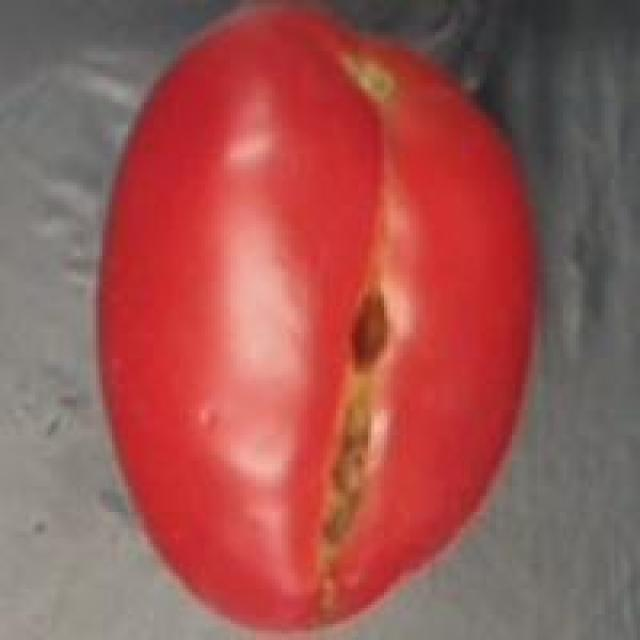overripe tomato: (90, 0, 554, 640)
